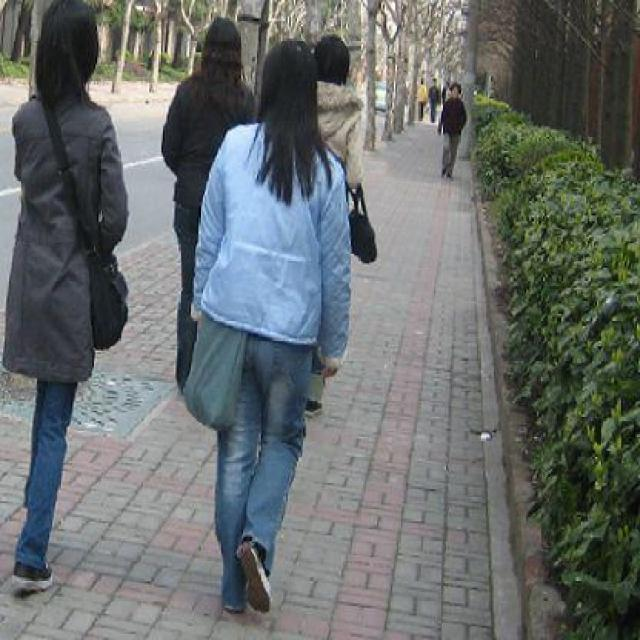Person: (207, 39, 353, 618), (0, 0, 129, 598), (154, 11, 249, 382), (429, 79, 471, 179)
